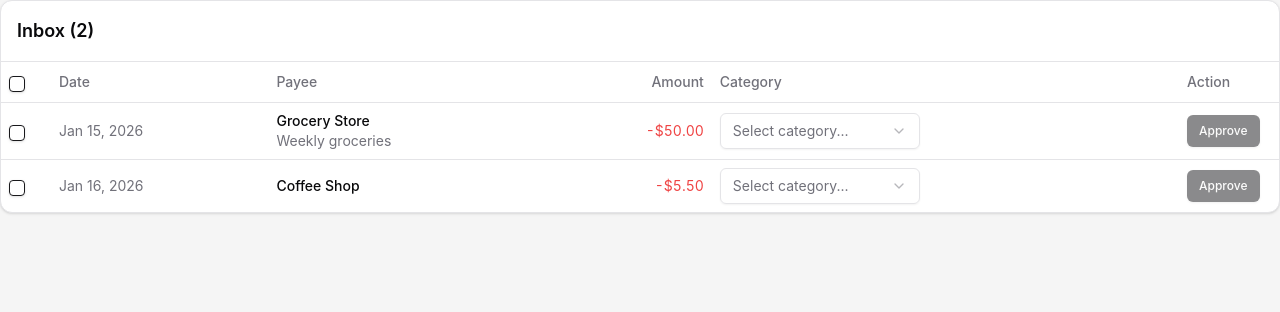
TransactionInbox › should approve transaction and remove from list
The width and height of the screenshot is (1280, 312).
Expected: the text "Grocery Store" is shown, x1=276 y1=112 x2=370 y2=128
Click the dropdown labelled "Select category..." in the row of "Jan 15, 2026". click: (820, 130)
box: x1=720 y1=112 x2=920 y2=148
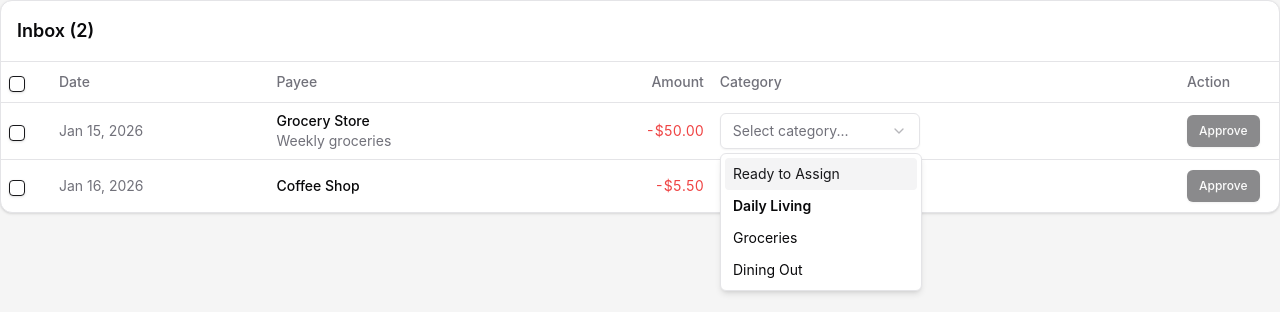
Now the option "Groceries" is shown
Click the option "Groceries". click: (765, 238)
box: x1=733 y1=229 x2=797 y2=246
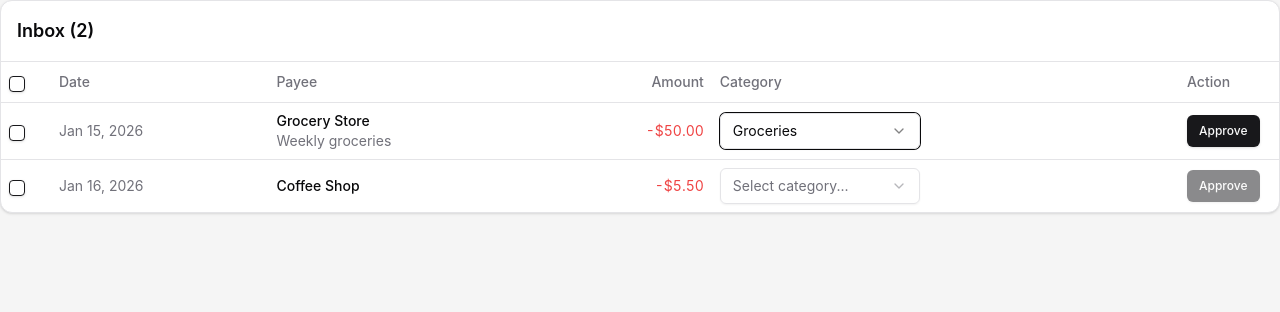
Click the button "Approve" in the row of "Jan 15, 2026". click: (1223, 130)
box: x1=1187 y1=114 x2=1260 y2=146
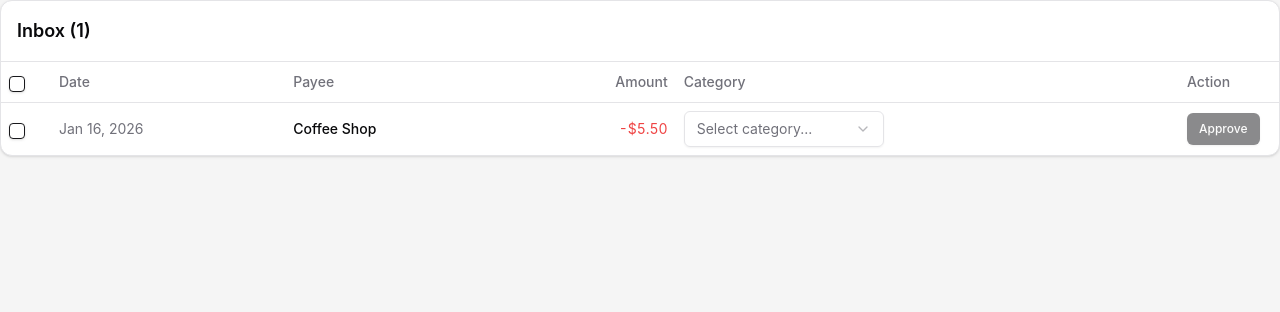
Expected: the text "Coffee Shop" is shown, x1=293 y1=120 x2=376 y2=136
Now the text "Grocery Store" is gone
